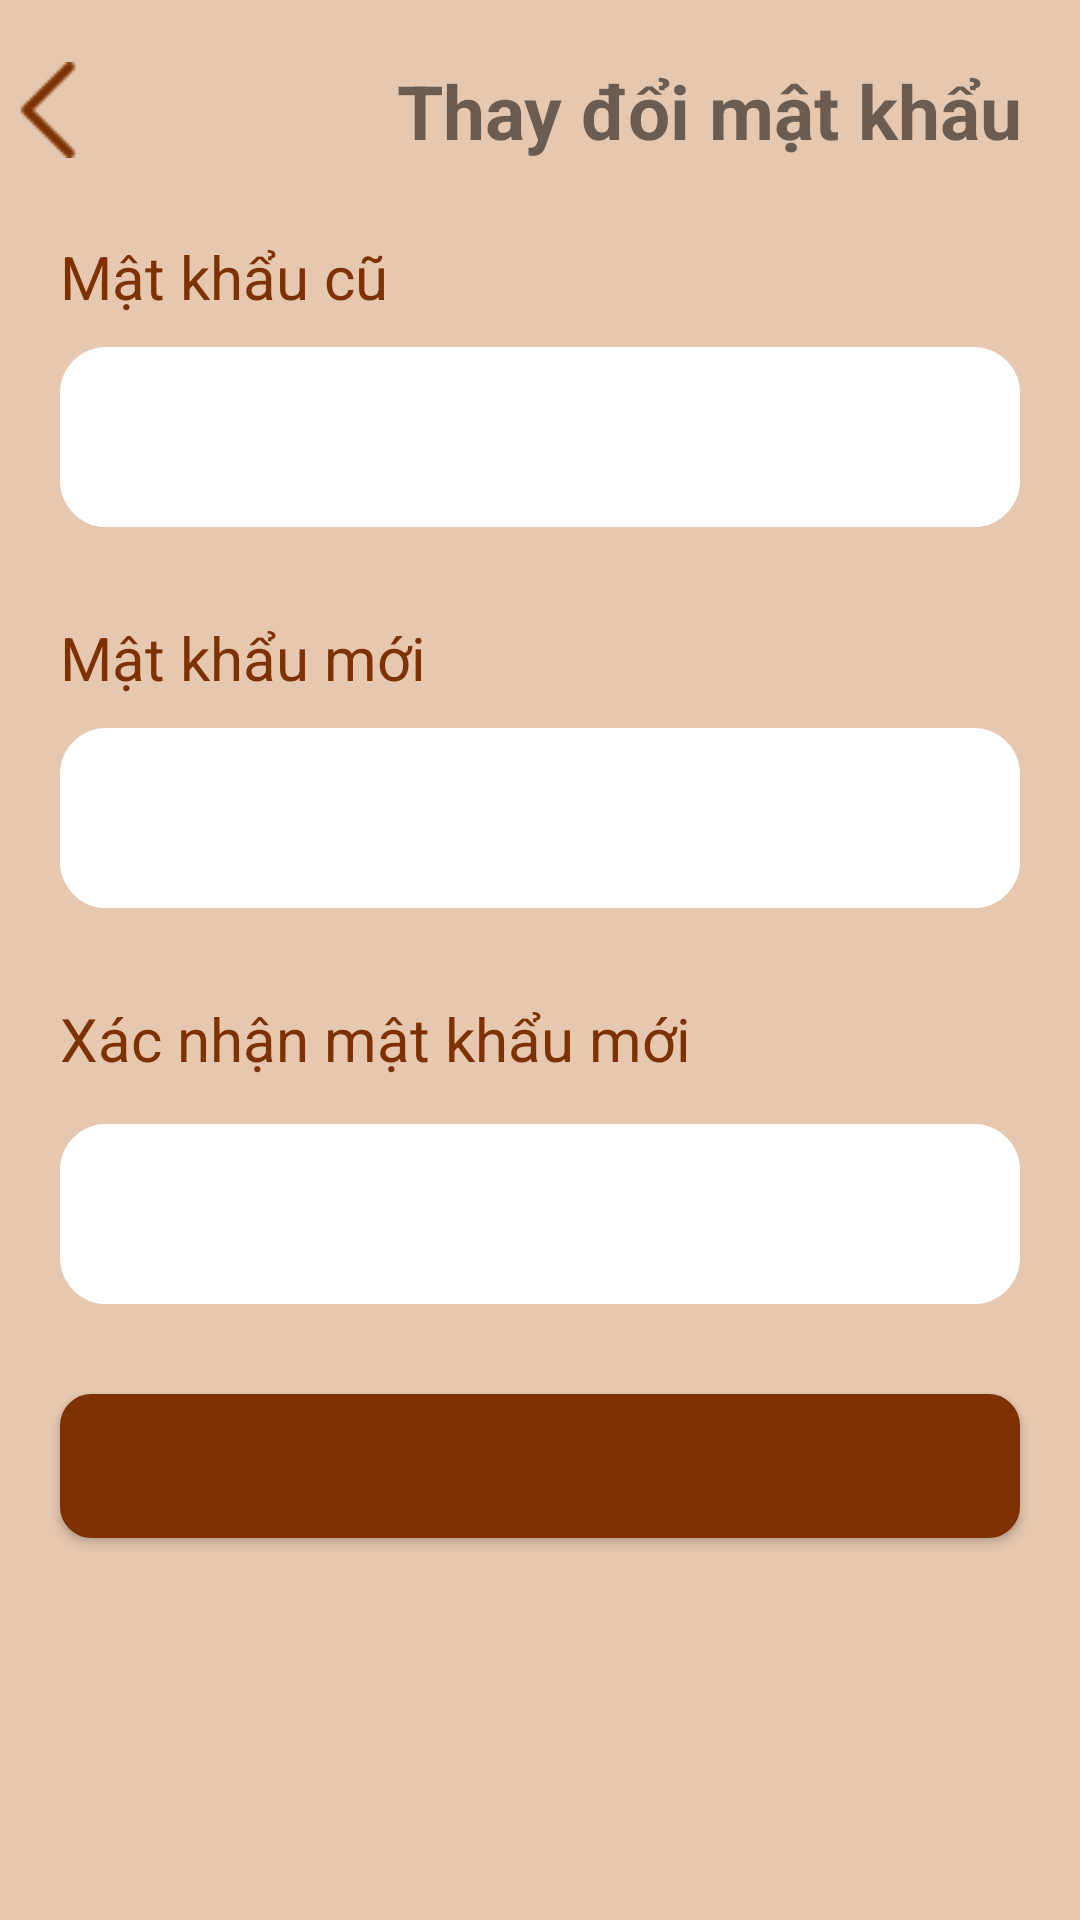

Named icons in this screenshot (1080 × 1920) and their centers, (x=x, y=y):
back: (x=48, y=110)
